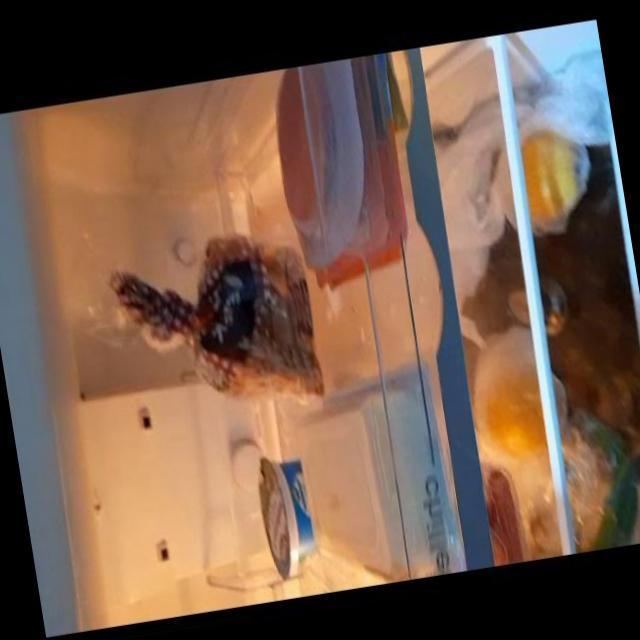Queso: (296, 390, 430, 579)
Yogur: (254, 456, 317, 576)
